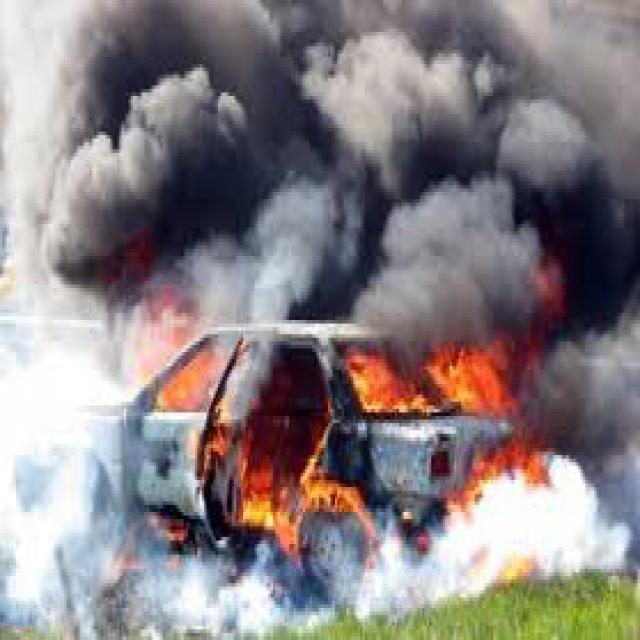Fire: (127, 311, 574, 565)
Smoke: (38, 0, 640, 263), (0, 479, 619, 640)
